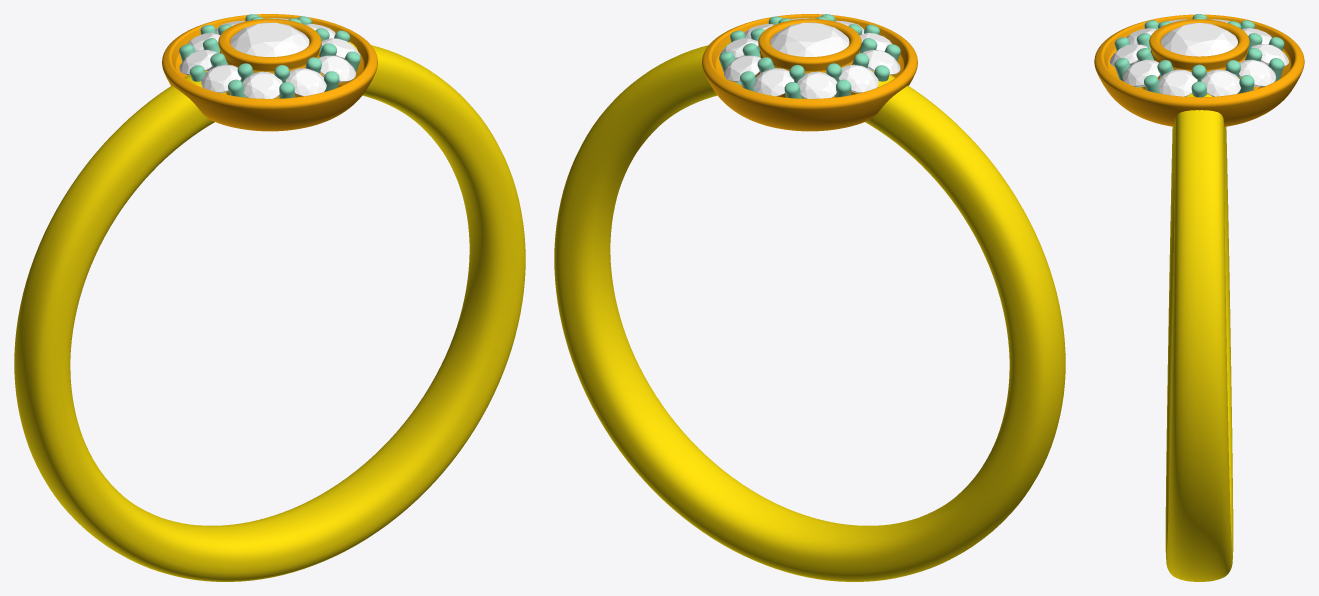
3 views of the same model, side by side, from view 1: azimuth 30°, elevation 25°; view 2: azimuth 150°, elevation 25°; view 3: azimuth 270°, elevation 25° (orthographic). The views are drawn at different scales.
Visible parts, largest first — view 1: 3mm cluster.3dm; view 2: 3mm cluster.3dm; view 3: 3mm cluster.3dm.
Part boxes in pixels (x1,y1,x2,y2): 3mm cluster.3dm: [14, 14, 525, 581]; 3mm cluster.3dm: [554, 14, 1065, 581]; 3mm cluster.3dm: [1094, 14, 1304, 581].
Bounding box in the file's own units: 2.69 × 2.78 × 1.01.
